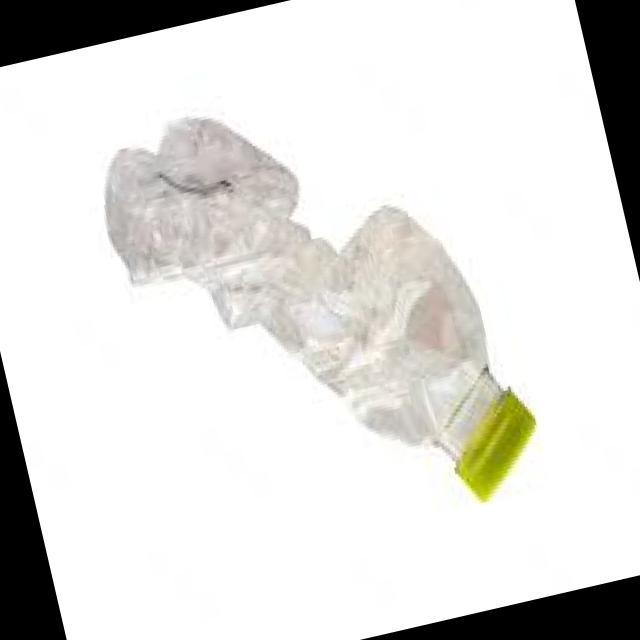defected: (78, 50, 560, 578)
